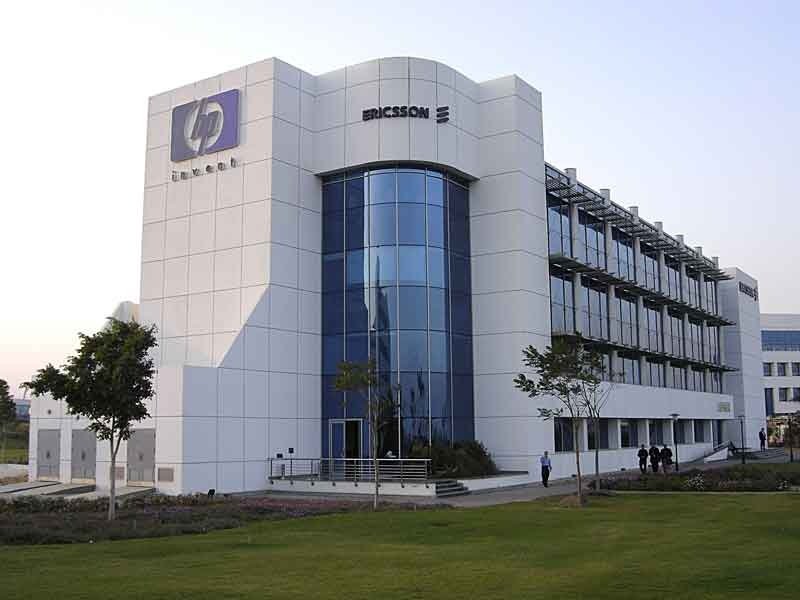hp: (180, 102, 231, 153)
